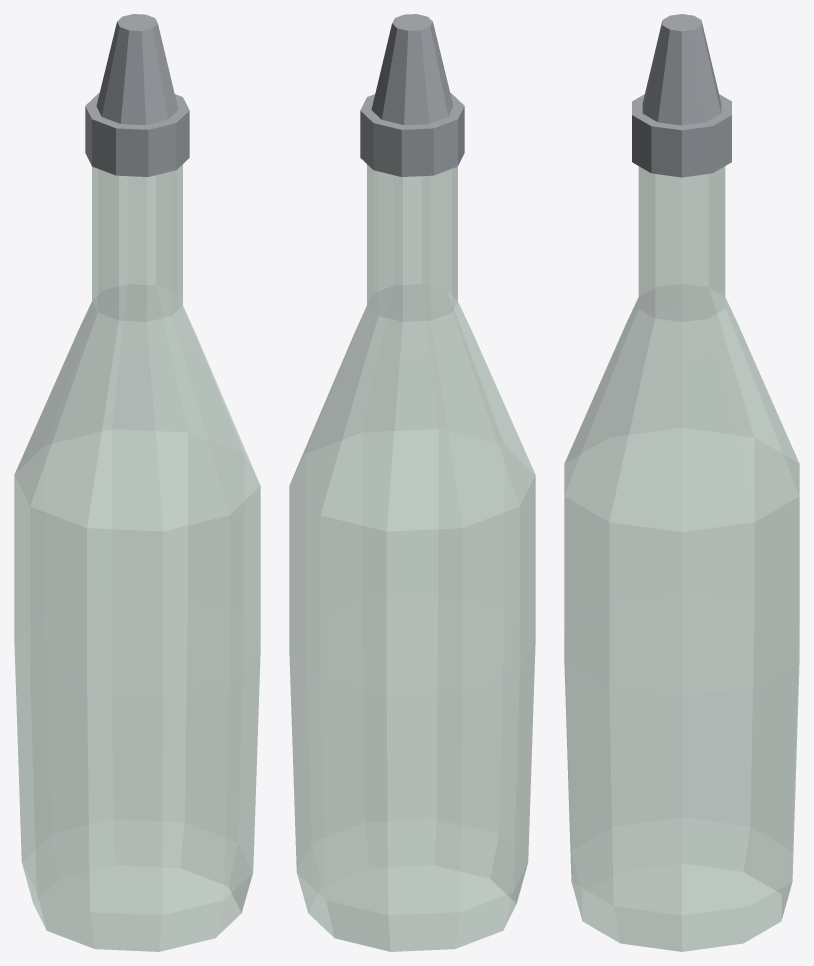
The model's file is SM_LPI_Ware_OilBottle_01.fbx.
3 views of the same model, side by side, from view 1: azimuth 30°, elevation 25°; view 2: azimuth 150°, elevation 25°; view 3: azimuth 270°, elevation 25° (orthographic).
Visible parts, largest first — view 1: SM_LPI_Ware_OilBottle_01; view 2: SM_LPI_Ware_OilBottle_01; view 3: SM_LPI_Ware_OilBottle_01.
Boxes of the visible parts, x1=… form: SM_LPI_Ware_OilBottle_01: x1=14, y1=14, x2=260, y2=951; SM_LPI_Ware_OilBottle_01: x1=289, y1=14, x2=535, y2=951; SM_LPI_Ware_OilBottle_01: x1=564, y1=14, x2=799, y2=951.
Bounding box in the file's own units: 0.076 × 0.3 × 0.0723.
